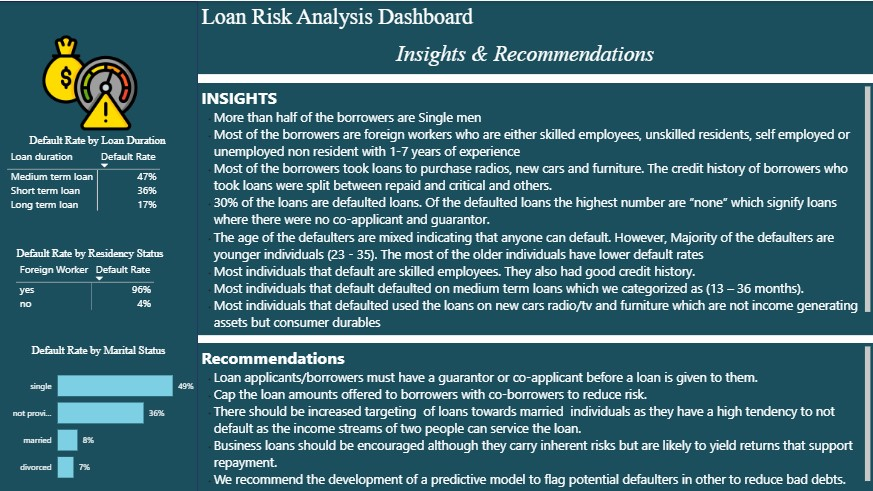

What the dashboard file says about the page in this screenshot:
{"tool":"powerbi","page":{"name":"Insights & Recomm.","canvas":[1280,720],"ordinal":1},"visuals":[{"type":"textbox","box":[291.2,0,989.3,106.8],"z":1000},{"type":"textbox","box":[291.2,0,965.9,106.8],"z":2000},{"type":"shape","box":[0,0,291.2,720],"z":2500,"group":"g1"},{"type":"group","id":"g1","title":"Group 1","box":[0,0,291.2,720],"z":3000},{"type":"group","id":"g2","title":"Group 2","box":[291.2,120,989.3,600],"z":4000},{"type":"textbox","box":[291.2,120,989.3,368.8],"z":4000,"group":"g2"},{"type":"pivotTable","title":"Default Rate by Loan Duration ","fields":{"Values":["Sum(GermanCredit.Observation_ID)"],"Rows":["GermanCredit.Loan duration"]},"box":[7.3,194.6,273.7,146.3],"z":6000,"group":"g1"},{"type":"pivotTable","title":"Default Rate by Residency Status","fields":{"Values":["Sum(GermanCredit.Observation_ID)"],"Rows":["GermanCredit.foreign_worker"]},"box":[20.5,360,283.9,146.3],"z":6500},{"type":"textbox","box":[291.2,500.5,989.3,219.5],"z":8000,"group":"g2"},{"type":"image","box":[58.6,45.7,148.6,148.6],"z":8500,"group":"g1"},{"type":"barChart","title":"Default Rate by Marital Status","fields":{"Category":["GermanCredit.personal_status"],"Y":["GermanCredit.Defaulters"]},"box":[0,502,291.2,218],"z":9000,"group":"g1"}]}

Visuals, with their boxes in screenshot pixels (x1, y1, x2, y2), scaled from the page's 1280x720 canvas onto the 873x491 screenshot:
textbox: {"left": 199, "top": 0, "right": 872, "bottom": 73}
textbox: {"left": 199, "top": 0, "right": 857, "bottom": 73}
shape: {"left": 0, "top": 0, "right": 199, "bottom": 490}
"Group 1" group: {"left": 0, "top": 0, "right": 199, "bottom": 490}
"Group 2" group: {"left": 199, "top": 82, "right": 872, "bottom": 490}
textbox: {"left": 199, "top": 82, "right": 872, "bottom": 333}
"Default Rate by Loan Duration " pivotTable: {"left": 5, "top": 133, "right": 192, "bottom": 232}
"Default Rate by Residency Status" pivotTable: {"left": 14, "top": 246, "right": 208, "bottom": 345}
textbox: {"left": 199, "top": 341, "right": 872, "bottom": 490}
image: {"left": 40, "top": 31, "right": 141, "bottom": 133}
"Default Rate by Marital Status" barChart: {"left": 0, "top": 342, "right": 199, "bottom": 490}
